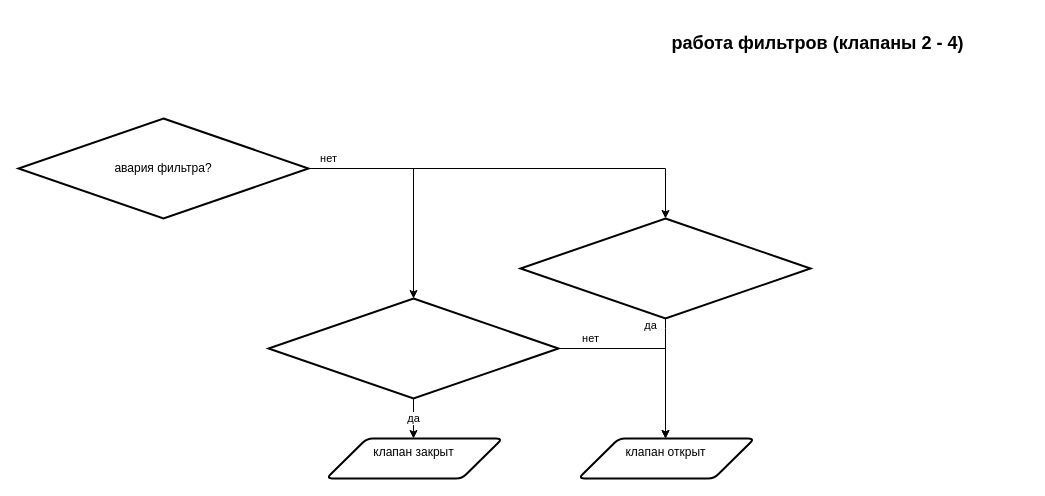
Some shapes in this 1045 by 496 pixel diagram are drawn without their labels. The centre of each missing label's shape, as x and y in pixels:
есть сигнал о промывке одного из фильтров?: (665,268)
сигнал окончания промывки на этом фильтре был?: (413,348)
